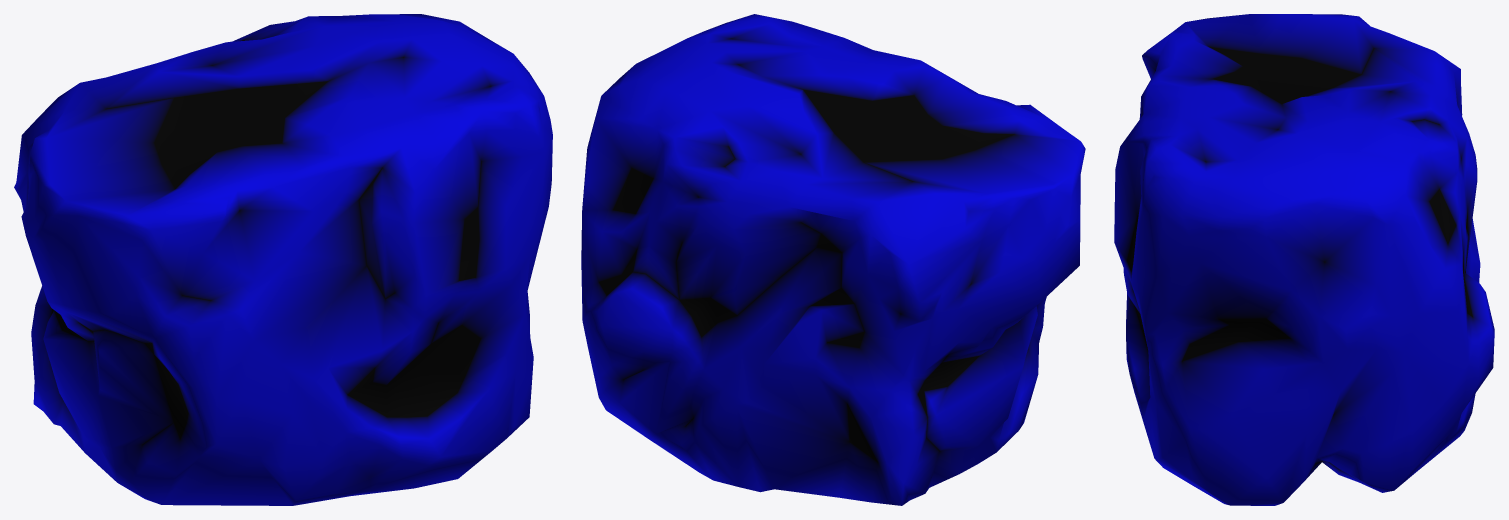
The model's file is Cave_Freeform1.fbx.
3 renders of one model, left to right at view 1: azimuth 30°, elevation 25°; view 2: azimuth 150°, elevation 25°; view 3: azimuth 270°, elevation 25°, orthographic. The views are drawn at different scales.
Visible parts, largest first — view 1: Cave_Freeform1; view 2: Cave_Freeform1; view 3: Cave_Freeform1.
Boxes of the visible parts, x1,y1,x2,y2 form: Cave_Freeform1: [14, 14, 552, 505]; Cave_Freeform1: [581, 14, 1085, 505]; Cave_Freeform1: [1114, 14, 1494, 505].
Size of what is drawn, in the model's own units: 1.26 by 0.9561 by 0.9308.
